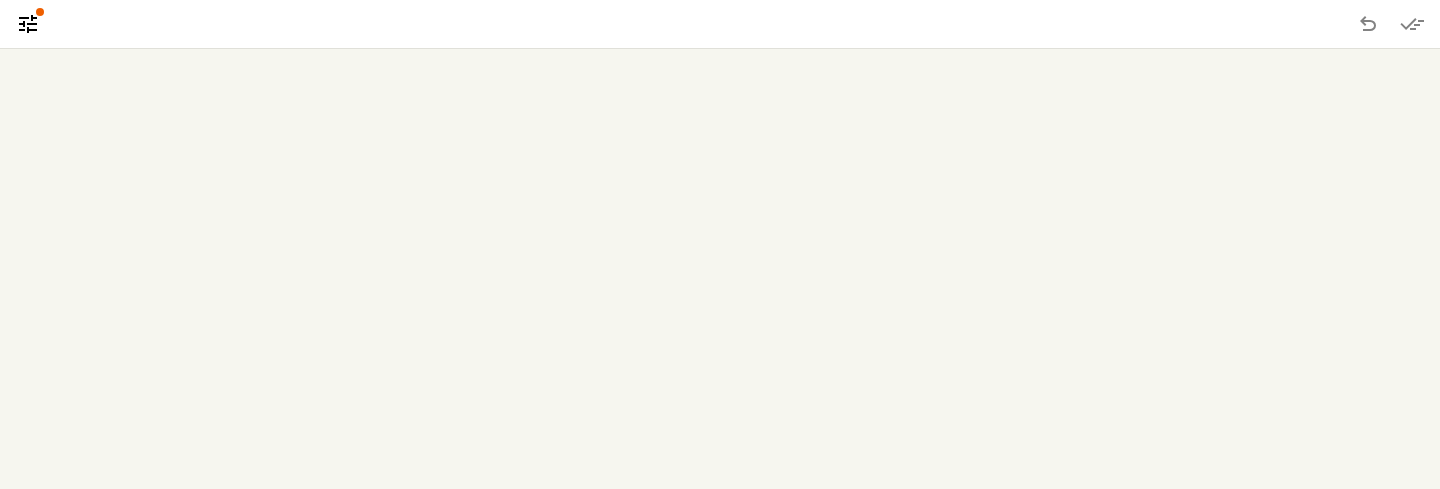
<ListToolbar> › shows the warning dot on the customize button when both branches are off
Expected: the element with test id "hot-rule-card-warning-dot" is shown, [36, 8, 44, 16]
What coordinates should you click on to do the following:
click the button with test id "hot-rule-card-toggle"
I would click on:
 (28, 24)
Its box is [8, 4, 48, 44].
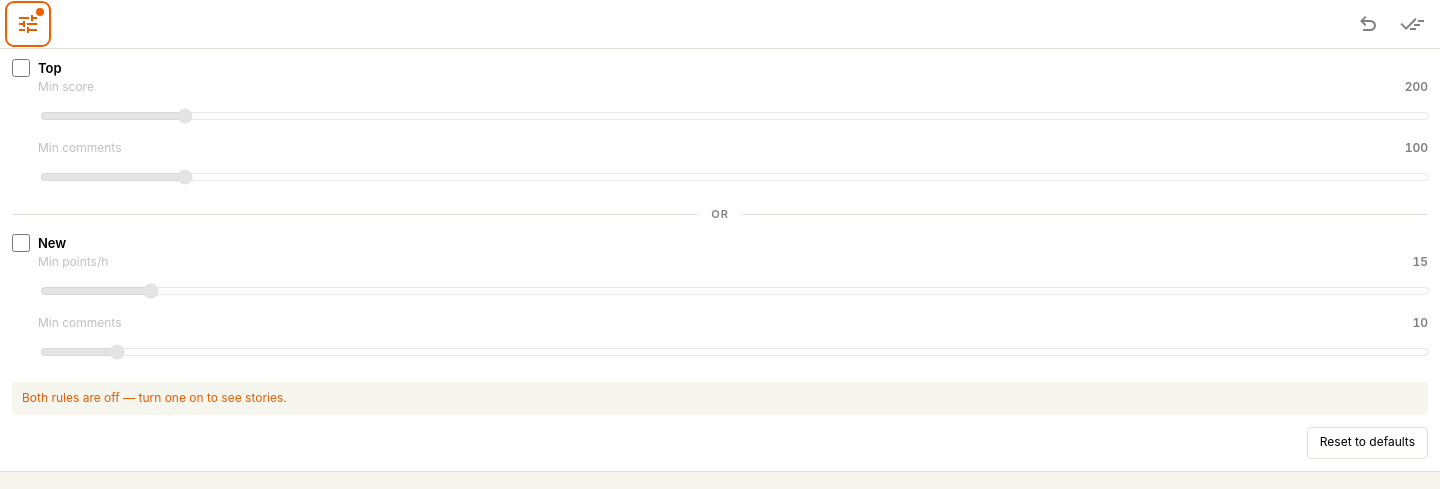
Expected: the text "Both rules are off — turn one on to see stories." is shown, [12, 382, 1428, 415]
